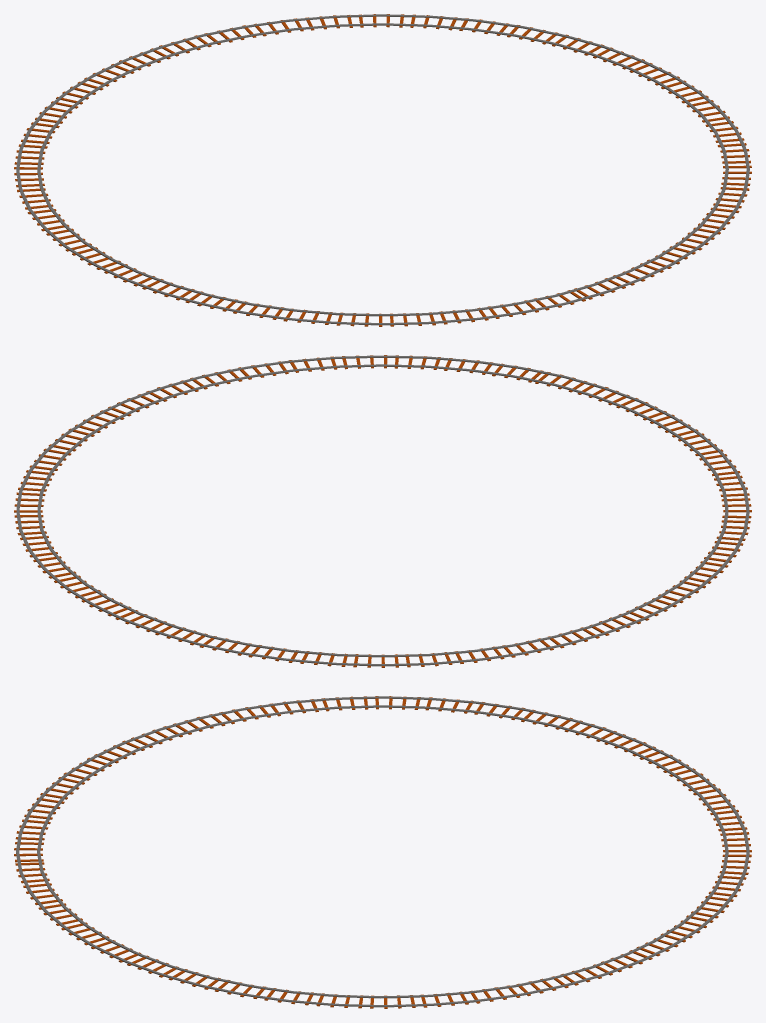
The model's file is rail.glb.
3 renders of one model, top to bottom at view 1: azimuth 30°, elevation 25°; view 2: azimuth 150°, elevation 25°; view 3: azimuth 270°, elevation 25°, orthographic.
Parts seen in each view (by area): view 1: rail; view 2: rail; view 3: rail.
Part boxes in pixels (x1,y1,x2,y2): rail: (14,14,751,326); rail: (14,355,751,667); rail: (14,696,751,1008).
Size of what is drawn, in the model's own units: 84.49 by 0.195 by 84.48.
